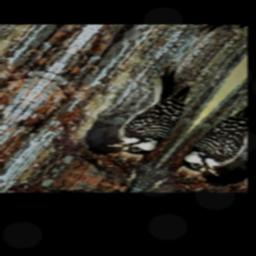Woodpecker: (92, 65, 218, 159)
